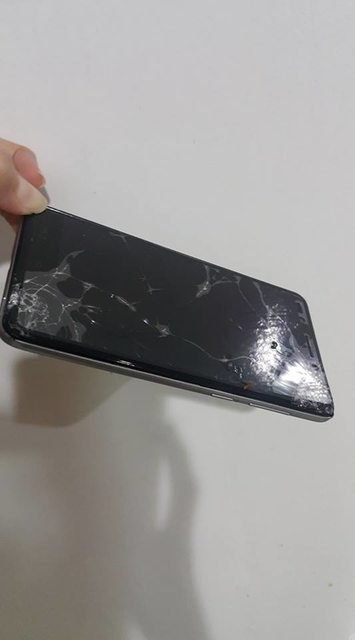Phone: (1, 205, 336, 425)
